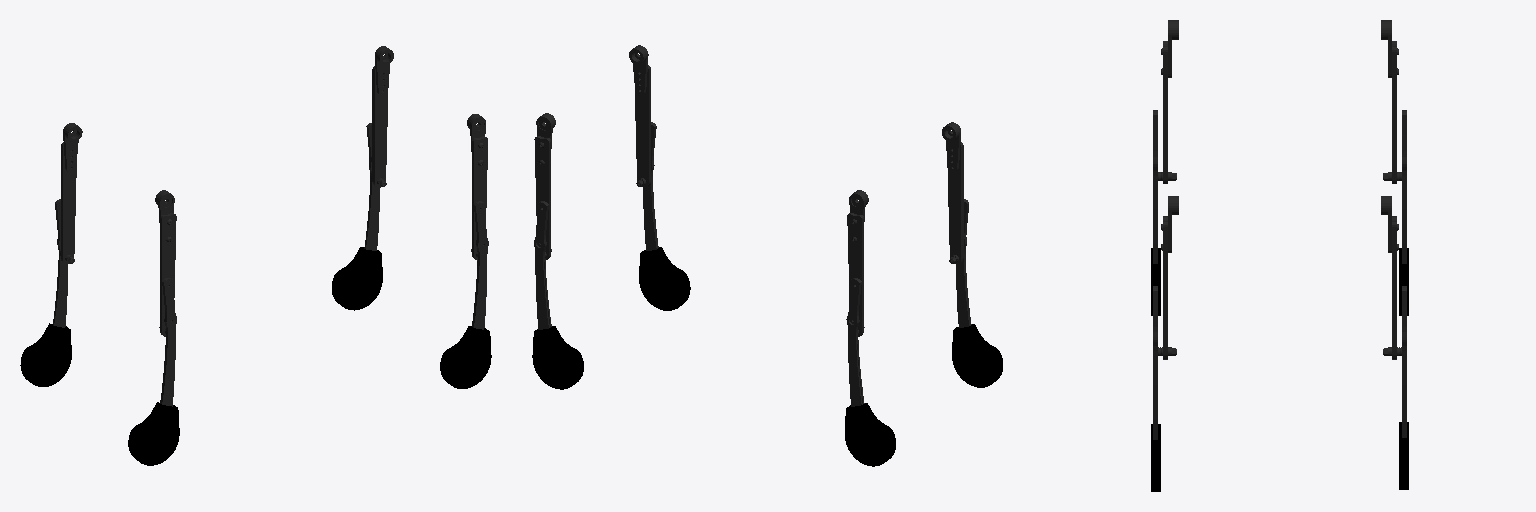
--- Facts derived from the render (not from the file) ---
3 views of the same robot in one strip: view 1: azimuth 30°, elevation 25°; view 2: azimuth 150°, elevation 25°; view 3: azimuth 270°, elevation 25° (orthographic).
Model witdog with 19 links and 18 joints (12 revolute, 6 fixed), rooted at base_link, posed every joint at zero.
Visible links, largest first — view 1: lh_foot, rf_foot, rh_foot, lf_foot, lf_2, lh_2, rh_2, rf_2, rh_3, rf_3, lh_3, lf_3; view 2: rf_foot, rh_foot, lf_foot, lh_foot, rh_2, rf_2, lh_2, lf_2, lh_3, lf_3, rf_3, rh_3; view 3: lh_2, rh_2, lf_2, rf_2, rf_3, lh_3, rh_3, lf_3, lf_foot, rf_foot.
Link boxes in pixels (bbox=[...]): lh_foot: bbox=[20, 323, 71, 386]; rf_foot: bbox=[440, 326, 491, 388]; rh_foot: bbox=[128, 402, 179, 465]; lf_foot: bbox=[332, 247, 382, 310]; lf_2: bbox=[372, 46, 393, 187]; lh_2: bbox=[61, 123, 82, 263]; rh_2: bbox=[155, 190, 176, 336]; rf_2: bbox=[467, 114, 487, 260]; rh_3: bbox=[160, 278, 176, 406]; rf_3: bbox=[472, 201, 488, 329]; lh_3: bbox=[53, 199, 67, 327]; lf_3: bbox=[364, 123, 379, 250]; rf_foot: bbox=[639, 247, 690, 310]; rh_foot: bbox=[952, 324, 1002, 387]; lf_foot: bbox=[532, 326, 583, 389]; lh_foot: bbox=[845, 403, 895, 466]; rh_2: bbox=[942, 122, 963, 264]; rf_2: bbox=[629, 45, 650, 187]; lh_2: bbox=[847, 190, 868, 336]; lf_2: bbox=[534, 113, 555, 259]; lh_3: bbox=[846, 278, 864, 406]; lf_3: bbox=[534, 201, 551, 329]; rf_3: bbox=[643, 122, 658, 250]; rh_3: bbox=[956, 199, 971, 327]; lh_2: bbox=[1381, 20, 1401, 183]; rh_2: bbox=[1158, 20, 1178, 183]; lf_2: bbox=[1381, 196, 1401, 359]; rf_2: bbox=[1158, 196, 1178, 359]; rf_3: bbox=[1153, 286, 1157, 439]; lh_3: bbox=[1402, 110, 1406, 263]; rh_3: bbox=[1153, 110, 1157, 263]; lf_3: bbox=[1402, 286, 1406, 437]; lf_foot: bbox=[1399, 422, 1408, 489]; rf_foot: bbox=[1151, 424, 1160, 491].
Size in the robot's own frame: 0.1961 by 0.1048 by 0.1358 metres.
12 mesh visuals loaded from 17 distinct referenced files (12 binary STL); not drawn: 5 (reference not matched to a file when rendering).

robot.urdf — witdog:
<?xml version="1.0" encoding="utf-8"?>
<!-- =================================================================================== -->
<!-- |    This document was autogenerated by xacro from witdog.xacro                   | -->
<!-- |    EDITING THIS FILE BY HAND IS NOT RECOMMENDED                                 | -->
<!-- =================================================================================== -->
<robot name="witdog">
  <material name="black">
    <color rgba="0.0 0.0 0.0 1.0"/>
  </material>
  <material name="blue">
    <color rgba="0.0 0.0 0.8 1.0"/>
  </material>
  <material name="green">
    <color rgba="0.0 0.8 0.0 1.0"/>
  </material>
  <material name="grey">
    <color rgba="0.2 0.2 0.2 1.0"/>
  </material>
  <material name="silver">
    <color rgba="0.9137254901960784 0.9137254901960784 0.8470588235294118 1.0"/>
  </material>
  <material name="orange">
    <color rgba="1.0 0.4235294117647059 0.0392156862745098 1.0"/>
  </material>
  <material name="brown">
    <color rgba="0.8705882352941177 0.8117647058823529 0.7647058823529411 1.0"/>
  </material>
  <material name="red">
    <color rgba="0.8 0.0 0.0 1.0"/>
  </material>
  <material name="white">
    <color rgba="1.0 1.0 1.0 1.0"/>
  </material>
  <link name="base_link">
    <visual>
      <origin rpy="0 0 0" xyz="0 0 0"/>
      <geometry>
        <mesh filename="package://witdog_description/meshes/base_link.STL"/>
      </geometry>
      <material name="black"/>
    </visual>
    <collision>
      <origin rpy="0 0 0" xyz="0 0 0"/>
      <geometry>
        <mesh filename="package://witdog_description/meshes/base_link.STL"/>
      </geometry>
    </collision>
  </link>
  <link name="inertia_link">
    <inertial>
      <origin rpy="0 0 0" xyz="0.0064015 0.0001745 -0.0022995"/>
      <mass value="0.6"/>
      <inertia ixx="0.00013785" ixy="-5.3961E-10" ixz="6.5926E-07" iyy="0.00075341" iyz="-4.7116E-09" izz="0.00085245"/>
    </inertial>
  </link>
  <joint name="to_inertia" type="fixed">
    <parent link="base_link"/>
    <child link="inertia_link"/>
    <origin rpy="0 0 0" xyz="0 0 0"/>
  </joint>
  <link name="lf_1">
    <inertial>
      <origin rpy="0 0 0" xyz="2.62515944628658E-05 0.0150369804172996 9.51730990358252E-06"/>
      <mass value="0.3"/>
      <inertia ixx="0.000485416666667" ixy="0.0" ixz="0.0" iyy="0.000613416666667" iyz="0.0" izz="0.000394666666667"/>
    </inertial>
    <visual>
      <origin rpy="0 0 0" xyz="0 0 0"/>
      <geometry>
        <mesh filename="package://witdog_description/meshes/lf_1.STL"/>
      </geometry>
      <material name="grey"/>
    </visual>
    <collision>
      <origin rpy="0 0 0" xyz="0 0 0"/>
      <geometry>
        <mesh filename="package://witdog_description/meshes/lf_1.STL"/>
      </geometry>
    </collision>
  </link>
  <joint name="to_lf1" type="revolute">
    <origin rpy="0 0 0" xyz="0.08652 0.028001 -0.005647"/>
    <parent link="base_link"/>
    <child link="lf_1"/>
    <axis xyz="1 0 0"/>
    <limit effort="5" lower="-3.14" upper="3.14" velocity="1.5"/>
  </joint>
  <link name="lf_2">
    <inertial>
      <origin rpy="0 0 0" xyz="-0.000216886891406632 0.00185556616401127 -0.0157060881233216"/>
      <mass value="0.13"/>
      <inertia ixx="0.0003873984375" ixy="0.0" ixz="0.0" iyy="0.000404065104167" iyz="0.0" izz="3.54166666667e-05"/>
    </inertial>
    <visual>
      <origin rpy="0 0 0" xyz="0 0 0"/>
      <geometry>
        <mesh filename="package://witdog_description/meshes/lf_2.STL"/>
      </geometry>
      <material name="grey"/>
    </visual>
    <collision>
      <origin rpy="0 0 0" xyz="0 0 0"/>
      <geometry>
        <mesh filename="package://witdog_description/meshes/lf_2.STL"/>
      </geometry>
    </collision>
  </link>
  <joint name="to_lf2" type="revolute">
    <origin rpy="0 0 0" xyz="-0.0057834 0.014959 0.00061935"/>
    <parent link="lf_1"/>
    <child link="lf_2"/>
    <axis xyz="0 1 0"/>
    <limit effort="5" lower="-3.14" upper="3.14" velocity="1.5"/>
  </joint>
  <link name="lf_3">
    <inertial>
      <origin rpy="0 0 0" xyz="-0.00207589878248646 -0.000650514564911272 -0.0275149145142826"/>
      <mass value="0.063"/>
      <inertia ixx="0.000258541666667" ixy="0.0" ixz="0.0" iyy="0.00026934375" iyz="0.0" izz="2.08854166667e-05"/>
    </inertial>
    <visual>
      <origin rpy="0 0 0" xyz="0 0 0"/>
      <geometry>
        <mesh filename="package://witdog_description/meshes/lf_3.STL"/>
      </geometry>
      <material name="grey"/>
    </visual>
    <collision>
      <origin rpy="0 0 0" xyz="0 0 0"/>
      <geometry>
        <mesh filename="package://witdog_description/meshes/lf_3.STL"/>
      </geometry>
    </collision>
  </link>
  <joint name="to_lf3" type="revolute">
    <origin rpy="0 0 0" xyz="-0.00091985 0.0079405 -0.060"/>
    <parent link="lf_2"/>
    <child link="lf_3"/>
    <axis xyz="0 1 0"/>
    <limit effort="5" lower="-3.14" upper="3.14" velocity="1.5"/>
  </joint>
  <link name="lf_foot">
    <inertial>
      <origin rpy="0 0 0" xyz="0.000733010852343454 -0.00200000000000003 0.000667379574654542"/>
      <mass value="0.063"/>
      <inertia ixx="9.6355662245681E-08" ixy="-9.37574254460232E-23" ixz="-1.49911815454567E-08" iyy="1.84243192364973E-07" iyz="-6.25861926332428E-23" izz="9.362840682092E-08"/>
    </inertial>
    <visual>
      <origin rpy="0 0 0" xyz="0 0 0"/>
      <geometry>
        <mesh filename="package://witdog_description/meshes/lf_foot.STL"/>
      </geometry>
      <material name="black"/>
    </visual>
    <collision>
      <origin rpy="0 0 0" xyz="0 0 0"/>
      <geometry>
        <mesh filename="package://witdog_description/meshes/lf_foot.STL"/>
      </geometry>
    </collision>
  </link>
  <joint name="to_lffoot" type="fixed">
    <origin rpy="0 0 0" xyz="-0.0098189 0.0015 -0.059121"/>
    <parent link="lf_3"/>
    <child link="lf_foot"/>
    <axis xyz="0 0 0"/>
  </joint>
  <transmission name="to_lf1_trans">
    <type>transmission_interface/SimpleTransmission</type>
    <joint name="to_lf1">
      <hardwareInterface>hardware_interface/EffortJointInterface</hardwareInterface>
    </joint>
    <actuator name="to_lf1_motor">
      <hardwareInterface>hardware_interface/EffortJointInterface</hardwareInterface>
      <mechanicalReduction>1</mechanicalReduction>
    </actuator>
  </transmission>
  <transmission name="to_lf2_trans">
    <type>transmission_interface/SimpleTransmission</type>
    <joint name="to_lf2">
      <hardwareInterface>hardware_interface/EffortJointInterface</hardwareInterface>
    </joint>
    <actuator name="to_lf2_motor">
      <hardwareInterface>hardware_interface/EffortJointInterface</hardwareInterface>
      <mechanicalReduction>1</mechanicalReduction>
    </actuator>
  </transmission>
  <transmission name="to_lf3_trans">
    <type>transmission_interface/SimpleTransmission</type>
    <joint name="to_lf3">
      <hardwareInterface>hardware_interface/EffortJointInterface</hardwareInterface>
    </joint>
    <actuator name="to_lf3_motor">
      <hardwareInterface>hardware_interface/EffortJointInterface</hardwareInterface>
      <mechanicalReduction>1</mechanicalReduction>
    </actuator>
  </transmission>
  <link name="rf_1">
    <inertial>
      <origin rpy="0 0 0" xyz="-2.3349E-05 -0.014987 5.2286E-06"/>
      <mass value="0.3"/>
      <inertia ixx="0.000485416666667" ixy="0.0" ixz="0.0" iyy="0.000613416666667" iyz="0.0" izz="0.000394666666667"/>
    </inertial>
    <visual>
      <origin rpy="0 0 0" xyz="0 0 0"/>
      <geometry>
        <mesh filename="package://witdog_description/meshes/rf_1.STL"/>
      </geometry>
      <material name="grey"/>
    </visual>
    <collision>
      <origin rpy="0 0 0" xyz="0 0 0"/>
      <geometry>
        <mesh filename="package://witdog_description/meshes/rf_1.STL"/>
      </geometry>
    </collision>
  </link>
  <joint name="to_rf1" type="revolute">
    <origin rpy="0 0 0" xyz="0.08652 -0.028 -0.005647"/>
    <parent link="base_link"/>
    <child link="rf_1"/>
    <axis xyz="1 0 0"/>
    <limit effort="5" lower="-3.14" upper="3.14" velocity="1.5"/>
  </joint>
  <link name="rf_2">
    <inertial>
      <origin rpy="0 0 0" xyz="-0.000216884414840048 -0.0018570506821472 -0.0157060845364545"/>
      <mass value="0.13"/>
      <inertia ixx="0.0003873984375" ixy="0.0" ixz="0.0" iyy="0.000404065104167" iyz="0.0" izz="3.54166666667e-05"/>
    </inertial>
    <visual>
      <origin rpy="0 0 0" xyz="0 0 0"/>
      <geometry>
        <mesh filename="package://witdog_description/meshes/rf_2.STL"/>
      </geometry>
      <material name="grey"/>
    </visual>
    <collision>
      <origin rpy="0 0 0" xyz="0 0 0"/>
      <geometry>
        <mesh filename="package://witdog_description/meshes/rf_2.STL"/>
      </geometry>
    </collision>
  </link>
  <joint name="to_rf2" type="revolute">
    <origin rpy="0 0 0" xyz="-0.0057834 -0.014959 0.00061935"/>
    <parent link="rf_1"/>
    <child link="rf_2"/>
    <axis xyz="0 1 0"/>
    <limit effort="5" lower="-3.14" upper="3.14" velocity="1.5"/>
  </joint>
  <link name="rf_3">
    <inertial>
      <origin rpy="0 0 0" xyz="-0.00216416743732465 0.000904314415320434 -0.0285792043747879"/>
      <mass value="0.063"/>
      <inertia ixx="0.000258541666667" ixy="0.0" ixz="0.0" iyy="0.00026934375" iyz="0.0" izz="2.08854166667e-05"/>
    </inertial>
    <visual>
      <origin rpy="0 0 0" xyz="0 0 0"/>
      <geometry>
        <mesh filename="package://witdog_description/meshes/rf_3.STL"/>
      </geometry>
      <material name="grey"/>
    </visual>
    <collision>
      <origin rpy="0 0 0" xyz="0 0 0"/>
      <geometry>
        <mesh filename="package://witdog_description/meshes/rf_3.STL"/>
      </geometry>
    </collision>
  </link>
  <joint name="to_rf3" type="revolute">
    <origin rpy="0 0 0" xyz="-0.000919872443398681 -0.00834054054053998 -0.060"/>
    <parent link="rf_2"/>
    <child link="rf_3"/>
    <axis xyz="0 1 0"/>
    <limit effort="5" lower="-3.14" upper="3.14" velocity="1.5"/>
  </joint>
  <link name="rf_foot">
    <inertial>
      <origin rpy="0 0 0" xyz="0.000733010852419357 0.002 0.000667379574624372"/>
      <mass value="0.063"/>
      <inertia ixx="9.6355662245681E-08" ixy="6.61616672491364E-23" ixz="-1.49911815454568E-08" iyy="1.84243192364973E-07" iyz="1.65831138249206E-22" izz="9.36284068209202E-08"/>
    </inertial>
    <visual>
      <origin rpy="0 0 0" xyz="0 0 0"/>
      <geometry>
        <mesh filename="package://witdog_description/meshes/rf_foot.STL"/>
      </geometry>
      <material name="black"/>
    </visual>
    <collision>
      <origin rpy="0 0 0" xyz="0 0 0"/>
      <geometry>
        <mesh filename="package://witdog_description/meshes/rf_foot.STL"/>
      </geometry>
    </collision>
  </link>
  <joint name="to_rffoot" type="fixed">
    <origin rpy="0 0 0" xyz="-0.0091444 -0.0010914 -0.05939"/>
    <parent link="rf_3"/>
    <child link="rf_foot"/>
    <axis xyz="0 0 0"/>
  </joint>
  <transmission name="to_rf1_trans">
    <type>transmission_interface/SimpleTransmission</type>
    <joint name="to_rf1">
      <hardwareInterface>hardware_interface/EffortJointInterface</hardwareInterface>
    </joint>
    <actuator name="to_rf1_motor">
      <hardwareInterface>hardware_interface/EffortJointInterface</hardwareInterface>
      <mechanicalReduction>1</mechanicalReduction>
    </actuator>
  </transmission>
  <transmission name="to_rf2_trans">
    <type>transmission_interface/SimpleTransmission</type>
    <joint name="to_rf2">
      <hardwareInterface>hardware_interface/EffortJointInterface</hardwareInterface>
    </joint>
    <actuator name="to_rf2_motor">
      <hardwareInterface>hardware_interface/EffortJointInterface</hardwareInterface>
      <mechanicalReduction>1</mechanicalReduction>
    </actuator>
  </transmission>
  <transmission name="to_rf3_trans">
    <type>transmission_interface/SimpleTransmission</type>
    <joint name="to_rf3">
      <hardwareInterface>hardware_interface/EffortJointInterface</hardwareInterface>
    </joint>
    <actuator name="to_rf3_motor">
      <hardwareInterface>hardware_interface/EffortJointInterface</hardwareInterface>
      <mechanicalReduction>1</mechanicalReduction>
    </actuator>
  </transmission>
  <link name="lh_1">
    <inertial>
      <origin rpy="0 0 0" xyz="-6.03000272297871E-06 0.015008835867718 9.49343399942945E-06"/>
      <mass value="0.3"/>
      <inertia ixx="0.000485416666667" ixy="0.0" ixz="0.0" iyy="0.000613416666667" iyz="0.0" izz="0.000394666666667"/>
    </inertial>
    <visual>
      <origin rpy="0 0 0" xyz="0 0 0"/>
      <geometry>
        <mesh filename="package://witdog_description/meshes/lh_1.STL"/>
      </geometry>
      <material name="grey"/>
    </visual>
    <collision>
      <origin rpy="0 0 0" xyz="0 0 0"/>
      <geometry>
        <mesh filename="package://witdog_description/meshes/lh_1.STL"/>
      </geometry>
    </collision>
  </link>
  <joint name="to_lh1" type="revolute">
    <origin rpy="0 0 0" xyz="-0.08248 0.028001 -0.005937"/>
    <parent link="base_link"/>
    <child link="lh_1"/>
    <axis xyz="1 0 0"/>
    <limit effort="5" lower="-3.14" upper="3.14" velocity="1.5"/>
  </joint>
  <link name="lh_2">
    <inertial>
      <origin rpy="0 0 0" xyz="-0.000216886891503815 0.00185556616399846 -0.0157060881233222"/>
      <mass value="0.13"/>
      <inertia ixx="0.0003873984375" ixy="0.0" ixz="0.0" iyy="0.000404065104167" iyz="0.0" izz="3.54166666667e-05"/>
    </inertial>
    <visual>
      <origin rpy="0 0 0" xyz="0 0 0"/>
      <geometry>
        <mesh filename="package://witdog_description/meshes/lh_2.STL"/>
      </geometry>
      <material name="grey"/>
    </visual>
    <collision>
      <origin rpy="0 0 0" xyz="0 0 0"/>
      <geometry>
        <mesh filename="package://witdog_description/meshes/lh_2.STL"/>
      </geometry>
    </collision>
  </link>
  <joint name="to_lh2" type="revolute">
    <origin rpy="0 0 0" xyz="-0.00578344744545112 0.0149594594594723 0.000619354785077068"/>
    <parent link="lh_1"/>
    <child link="lh_2"/>
    <axis xyz="0 1 0"/>
    <limit effort="5" lower="-3.14" upper="3.14" velocity="1.5"/>
  </joint>
  <link name="lh_3">
    <inertial>
      <origin rpy="0 0 0" xyz="-0.00207589878256928 -0.000650514564957339 -0.0275149145142762"/>
      <mass value="0.063"/>
      <inertia ixx="0.000258541666667" ixy="0.0" ixz="0.0" iyy="0.00026934375" iyz="0.0" izz="2.08854166667e-05"/>
    </inertial>
    <visual>
      <origin rpy="0 0 0" xyz="0 0 0"/>
      <geometry>
        <mesh filename="package://witdog_description/meshes/lh_3.STL"/>
      </geometry>
      <material name="grey"/>
    </visual>
    <collision>
      <origin rpy="0 0 0" xyz="0 0 0"/>
      <geometry>
        <mesh filename="package://witdog_description/meshes/lh_3.STL"/>
      </geometry>
    </collision>
  </link>
  <joint name="to_lh3" type="revolute">
    <origin rpy="0 0 0" xyz="-0.000919847336912388 0.00794054054057377 -0.060"/>
    <parent link="lh_2"/>
    <child link="lh_3"/>
    <axis xyz="0 1 0"/>
    <limit effort="5" lower="-3.14" upper="3.14" velocity="1.5"/>
  </joint>
  <link name="lh_foot">
    <inertial>
      <origin rpy="0 0 0" xyz="0.000733010852452171 -0.002 0.000667379574611299"/>
      <mass value="0.063"/>
      <inertia ixx="9.63556622456806E-08" ixy="1.61006081338392E-23" ixz="-1.49911815454567E-08" iyy="1.84243192364972E-07" iyz="-7.24514755910098E-23" izz="9.36284068209199E-08"/>
    </inertial>
    <visual>
      <origin rpy="0 0 0" xyz="0 0 0"/>
      <geometry>
        <mesh filename="package://witdog_description/meshes/lh_foot.STL"/>
      </geometry>
      <material name="black"/>
    </visual>
    <collision>
      <origin rpy="0 0 0" xyz="0 0 0"/>
      <geometry>
        <mesh filename="package://witdog_description/meshes/lh_foot.STL"/>
      </geometry>
    </collision>
  </link>
  <joint name="to_lhfoot" type="fixed">
    <origin rpy="0 0 0" xyz="-0.0094743 0.0015 -0.059258"/>
    <parent link="lh_3"/>
    <child link="lh_foot"/>
    <axis xyz="0 0 0"/>
  </joint>
  <transmission name="to_lh1_trans">
    <type>transmission_interface/SimpleTransmission</type>
    <joint name="to_lh1">
      <hardwareInterface>hardware_interface/EffortJointInterface</hardwareInterface>
    </joint>
    <actuator name="to_lh1_motor">
      <hardwareInterface>hardware_interface/EffortJointInterface</hardwareInterface>
      <mechanicalReduction>1</mechanicalReduction>
    </actuator>
  </transmission>
  <transmission name="to_lh2_trans">
    <type>transmission_interface/SimpleTransmission</type>
    <joint name="to_lh2">
      <hardwareInterface>hardware_interface/EffortJointInterface</hardwareInterface>
    </joint>
    <actuator name="to_lh2_motor">
      <hardwareInterface>hardware_interface/EffortJointInterface</hardwareInterface>
      <mechanicalReduction>1</mechanicalReduction>
    </actuator>
  </transmission>
  <transmission name="to_lh3_trans">
    <type>transmission_interface/SimpleTransmission</type>
    <joint name="to_lh3">
      <hardwareInterface>hardware_interface/EffortJointInterface</hardwareInterface>
    </joint>
    <actuator name="to_lh3_motor">
      <hardwareInterface>hardware_interface/EffortJointInterface</hardwareInterface>
      <mechanicalReduction>1</mechanicalReduction>
    </actuator>
  </transmission>
  <link name="rh_1">
    <inertial>
      <origin rpy="0 0 0" xyz="4.74891857588089E-07 -0.0150062500764912 4.58882703502361E-08"/>
      <mass value="0.3"/>
      <inertia ixx="0.000485416666667" ixy="0.0" ixz="0.0" iyy="0.000613416666667" iyz="0.0" izz="0.000394666666667"/>
    </inertial>
    <visual>
      <origin rpy="0 0 0" xyz="0 0 0"/>
      <geometry>
        <mesh filename="package://witdog_description/meshes/rh_1.STL"/>
      </geometry>
      <material name="grey"/>
    </visual>
    <collision>
      <origin rpy="0 0 0" xyz="0 0 0"/>
      <geometry>
        <mesh filename="package://witdog_description/meshes/rh_1.STL"/>
      </geometry>
    </collision>
  </link>
  <joint name="to_rh1" type="revolute">
    <origin rpy="0 0 0" xyz="-0.08248 -0.028 -0.005937"/>
    <parent link="base_link"/>
    <child link="rh_1"/>
    <axis xyz="1 0 0"/>
    <limit effort="5" lower="-3.14" upper="3.14" velocity="1.5"/>
  </joint>
  <link name="rh_2">
    <inertial>
      <origin rpy="0 0 0" xyz="-0.000216884414840024 -0.00185705068214734 -0.0157060845364545"/>
      <mass value="0.13"/>
      <inertia ixx="0.0003873984375" ixy="0.0" ixz="0.0" iyy="0.000404065104167" iyz="0.0" izz="3.54166666667e-05"/>
    </inertial>
    <visual>
      <origin rpy="0 0 0" xyz="0 0 0"/>
      <geometry>
        <mesh filename="package://witdog_description/meshes/rh_2.STL"/>
      </geometry>
      <material name="grey"/>
    </visual>
    <collision>
      <origin rpy="0 0 0" xyz="0 0 0"/>
      <geometry>
        <mesh filename="package://witdog_description/meshes/rh_2.STL"/>
      </geometry>
    </collision>
  </link>
  <joint name="to_rh2" type="revolute">
    <origin rpy="0 0 0" xyz="-0.00578344744554893 -0.0149594594594607 0.000619354785075757"/>
    <parent link="rh_1"/>
    <child link="rh_2"/>
    <axis xyz="0 1 0"/>
    <limit effort="5" lower="-3.14" upper="3.14" velocity="1.5"/>
  </joint>
  <link name="rh_3">
    <inertial>
      <origin rpy="0 0 0" xyz="-0.00216416743732464 0.000904314415320323 -0.0285792043747879"/>
      <mass value="0.063"/>
      <inertia ixx="0.000258541666667" ixy="0.0" ixz="0.0" iyy="0.00026934375" iyz="0.0" izz="2.08854166667e-05"/>
    </inertial>
    <visual>
      <origin rpy="0 0 0" xyz="0 0 0"/>
      <geometry>
        <mesh filename="package://witdog_description/meshes/rh_3.STL"/>
      </geometry>
      <material name="grey"/>
    </visual>
    <collision>
      <origin rpy="0 0 0" xyz="0 0 0"/>
      <geometry>
        <mesh filename="package://witdog_description/meshes/rh_3.STL"/>
      </geometry>
    </collision>
  </link>
  <joint name="to_rh3" type="revolute">
    <origin rpy="0 0 0" xyz="-0.000919872443398723 -0.00834054054054026 -0.060"/>
    <parent link="rh_2"/>
    <child link="rh_3"/>
    <axis xyz="0 1 0"/>
    <limit effort="5" lower="-3.14" upper="3.14" velocity="1.5"/>
  </joint>
  <link name="rh_foot">
    <inertial>
      <origin rpy="0 0 0" xyz="0.000733010852420668 0.002 0.0006673795746239"/>
      <mass value="0.063"/>
      <inertia ixx="9.6355662245681E-08" ixy="1.0026239024509E-22" ixz="-1.49911815454567E-08" iyy="1.84243192364973E-07" iyz="1.52192774825146E-22" izz="9.36284068209202E-08"/>
    </inertial>
    <visual>
      <origin rpy="0 0 0" xyz="0 0 0"/>
      <geometry>
        <mesh filename="package://witdog_description/meshes/rh_foot.STL"/>
      </geometry>
      <material name="black"/>
    </visual>
    <collision>
      <origin rpy="0 0 0" xyz="0 0 0"/>
      <geometry>
        <mesh filename="package://witdog_description/meshes/rh_foot.STL"/>
      </geometry>
    </collision>
  </link>
  <joint name="to_rhfoot" type="fixed">
    <origin rpy="0 0 0" xyz="-0.0092382 -0.0010914 -0.059352"/>
    <parent link="rh_3"/>
    <child link="rh_foot"/>
    <axis xyz="0 0 0"/>
  </joint>
  <transmission name="to_rh1_trans">
    <type>transmission_interface/SimpleTransmission</type>
    <joint name="to_rh1">
      <hardwareInterface>hardware_interface/EffortJointInterface</hardwareInterface>
    </joint>
    <actuator name="to_rh1_motor">
      <hardwareInterface>hardware_interface/EffortJointInterface</hardwareInterface>
      <mechanicalReduction>1</mechanicalReduction>
    </actuator>
  </transmission>
  <transmission name="to_rh2_trans">
    <type>transmission_interface/SimpleTransmission</type>
    <joint name="to_rh2">
      <hardwareInterface>hardware_interface/EffortJointInterface</hardwareInterface>
    </joint>
    <actuator name="to_rh2_motor">
      <hardwareInterface>hardware_interface/EffortJointInterface</hardwareInterface>
      <mechanicalReduction>1</mechanicalReduction>
    </actuator>
  </transmission>
  <transmission name="to_rh3_trans">
    <type>transmission_interface/SimpleTransmission</type>
    <joint name="to_rh3">
      <hardwareInterface>hardware_interface/EffortJointInterface</hardwareInterface>
    </joint>
    <actuator name="to_rh3_motor">
      <hardwareInterface>hardware_interface/EffortJointInterface</hardwareInterface>
      <mechanicalReduction>1</mechanicalReduction>
    </actuator>
  </transmission>


  <gazebo reference="base_link">
    <material>Gazebo/FlatBlack</material>
  </gazebo>
  <gazebo reference="lf_1">
    <kp>1000000.0</kp>
    <kd>1.0</kd>
    <mu1>0.8</mu1>
    <mu2>0.8</mu2>
    <maxVel>0.0</maxVel>
    <minDepth>0.001</minDepth>
    <material>Gazebo/DarkGrey</material>
  </gazebo>
  <gazebo reference="lf_2">
    <kp>1000000.0</kp>
    <kd>1.0</kd>
    <mu1>0.8</mu1>
    <mu2>0.8</mu2>
    <maxVel>0.0</maxVel>
    <minDepth>0.001</minDepth>
    <material>Gazebo/DarkGrey</material>
  </gazebo>
  <gazebo reference="lf_3">
    <kp>1000000.0</kp>
    <kd>1.0</kd>
    <mu1>0.8</mu1>
    <mu2>0.8</mu2>
    <maxVel>0.0</maxVel>
    <minDepth>0.001</minDepth>
    <material>Gazebo/DarkGrey</material>
  </gazebo>
  <gazebo reference="lf_foot">
    <kp>1000000.0</kp>
    <kd>1.0</kd>
    <mu1>0.8</mu1>
    <mu2>0.8</mu2>
    <maxVel>0.0</maxVel>
    <minDepth>0.001</minDepth>
    <material>Gazebo/Black</material>
  </gazebo>
  <gazebo reference="rf_1">
    <kp>1000000.0</kp>
    <kd>1.0</kd>
    <mu1>0.8</mu1>
    <mu2>0.8</mu2>
    <maxVel>0.0</maxVel>
    <minDepth>0.001</minDepth>
    <material>Gazebo/DarkGrey</material>
  </gazebo>
  <gazebo reference="rf_2">
    <kp>1000000.0</kp>
    <kd>1.0</kd>
    <mu1>0.8</mu1>
    <mu2>0.8</mu2>
    <maxVel>0.0</maxVel>
    <minDepth>0.001</minDepth>
    <material>Gazebo/DarkGrey</material>
  </gazebo>
  <gazebo reference="rf_3">
    <kp>1000000.0</kp>
    <kd>1.0</kd>
    <mu1>0.8</mu1>
    <mu2>0.8</mu2>
    <maxVel>0.0</maxVel>
    <minDepth>0.001</minDepth>
    <material>Gazebo/DarkGrey</material>
  </gazebo>
  <gazebo reference="rf_foot">
    <kp>1000000.0</kp>
    <kd>1.0</kd>
    <mu1>0.8</mu1>
    <mu2>0.8</mu2>
    <maxVel>0.0</maxVel>
    <minDepth>0.001</minDepth>
    <material>Gazebo/Black</material>
  </gazebo>
  <gazebo reference="lh_1">
    <kp>1000000.0</kp>
    <kd>1.0</kd>
    <mu1>0.8</mu1>
    <mu2>0.8</mu2>
    <maxVel>0.0</maxVel>
    <minDepth>0.001</minDepth>
    <material>Gazebo/DarkGrey</material>
  </gazebo>
  <gazebo reference="lh_2">
    <kp>1000000.0</kp>
    <kd>1.0</kd>
    <mu1>0.8</mu1>
    <mu2>0.8</mu2>
    <maxVel>0.0</maxVel>
    <minDepth>0.001</minDepth>
    <material>Gazebo/DarkGrey</material>
  </gazebo>
  <gazebo reference="lh_3">
    <kp>1000000.0</kp>
    <kd>1.0</kd>
    <mu1>0.8</mu1>
    <mu2>0.8</mu2>
    <maxVel>0.0</maxVel>
    <minDepth>0.001</minDepth>
    <material>Gazebo/DarkGrey</material>
  </gazebo>
  <gazebo reference="lh_foot">
    <kp>1000000.0</kp>
    <kd>1.0</kd>
    <mu1>0.8</mu1>
    <mu2>0.8</mu2>
    <maxVel>0.0</maxVel>
    <minDepth>0.001</minDepth>
    <material>Gazebo/Black</material>
  </gazebo>
  <gazebo reference="rh_1">
    <kp>1000000.0</kp>
    <kd>1.0</kd>
    <mu1>0.8</mu1>
    <mu2>0.8</mu2>
    <maxVel>0.0</maxVel>
    <minDepth>0.001</minDepth>
    <material>Gazebo/DarkGrey</material>
  </gazebo>
  <gazebo reference="rh_2">
    <kp>1000000.0</kp>
    <kd>1.0</kd>
    <mu1>0.8</mu1>
    <mu2>0.8</mu2>
    <maxVel>0.0</maxVel>
    <minDepth>0.001</minDepth>
    <material>Gazebo/DarkGrey</material>
  </gazebo>
  <gazebo reference="rh_3">
    <kp>1000000.0</kp>
    <kd>1.0</kd>
    <mu1>0.8</mu1>
    <mu2>0.8</mu2>
    <maxVel>0.0</maxVel>
    <minDepth>0.001</minDepth>
    <material>Gazebo/DarkGrey</material>
  </gazebo>
  <gazebo reference="rh_foot">
    <kp>1000000.0</kp>
    <kd>1.0</kd>
    <mu1>0.8</mu1>
    <mu2>0.8</mu2>
    <maxVel>0.0</maxVel>
    <minDepth>0.001</minDepth>
    <material>Gazebo/Black</material>
  </gazebo>  

  <gazebo>
    <plugin filename="libgazebo_ros_p3d.so" name="p3d_base_controller">
      <alwaysOn>true</alwaysOn>
      <updateRate>10.0</updateRate>
      <bodyName>base_link</bodyName>
      <topicName>odom/ground_truth</topicName>
      <gaussianNoise>0.01</gaussianNoise>
      <frameName>world</frameName>
      <xyzOffsets>0 0 0</xyzOffsets>
      <rpyOffsets>0 0 0</rpyOffsets>
    </plugin>
  </gazebo>
  <gazebo>
    <plugin filename="libgazebo_ros_control.so" name="gazebo_ros_control">
      <legacyModeNS>true</legacyModeNS>
    </plugin>
  </gazebo>

  <gazebo>
    <plugin filename="libhector_gazebo_ros_imu.so" name="imu_controller">
      <updateRate>50.0</updateRate>
      <bodyName>imu_link</bodyName>
      <topicName>imu/data</topicName>
      <accelDrift>0.005 0.005 0.005</accelDrift>
      <accelGaussianNoise>0.005 0.005 0.005</accelGaussianNoise>
      <rateDrift>0.005 0.005 0.005 </rateDrift>
      <rateGaussianNoise>0.005 0.005 0.005 </rateGaussianNoise>
      <headingDrift>0.005</headingDrift>
      <headingGaussianNoise>0.005</headingGaussianNoise>
    </plugin>
  </gazebo>
  <link name="imu_link">
    <inertial>
      <mass value="0.001"/>
      <origin rpy="0 0 0" xyz="0 0 0"/>
      <inertia ixx="1e-09" ixy="0.0" ixz="0.0" iyy="1e-09" iyz="0.0" izz="1e-09"/>
    </inertial>
  </link>
  <joint name="imu_joint" type="fixed">
    <parent link="base_link"/>
    <child link="imu_link"/>
  </joint>
  
</robot>
